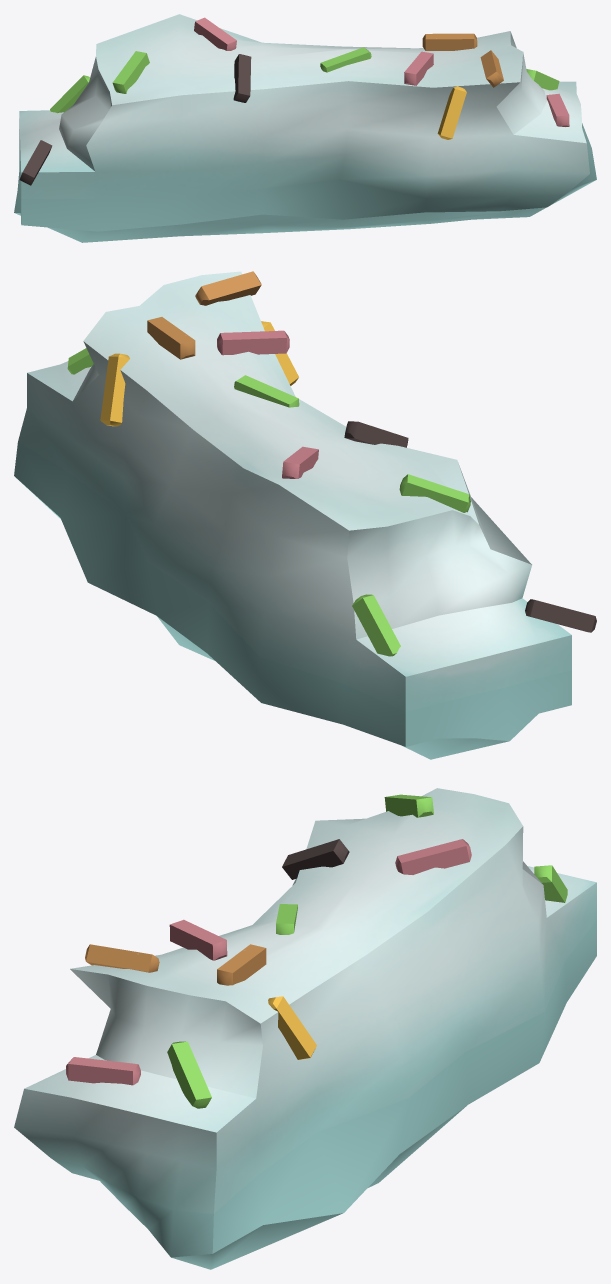
File: shabed05.fbx
3 views of the same model, one above another, from view 1: azimuth 30°, elevation 25°; view 2: azimuth 150°, elevation 25°; view 3: azimuth 270°, elevation 25° (orthographic). The views are drawn at different scales.
Parts seen in each view (by area): view 1: shabed05; view 2: shabed05; view 3: shabed05.
Part boxes in pixels (x1,y1,x2,y2): shabed05: (14, 14, 596, 242); shabed05: (14, 271, 596, 759); shabed05: (14, 788, 596, 1269).
Bounding box in the file's own units: 714 × 279 × 514.
